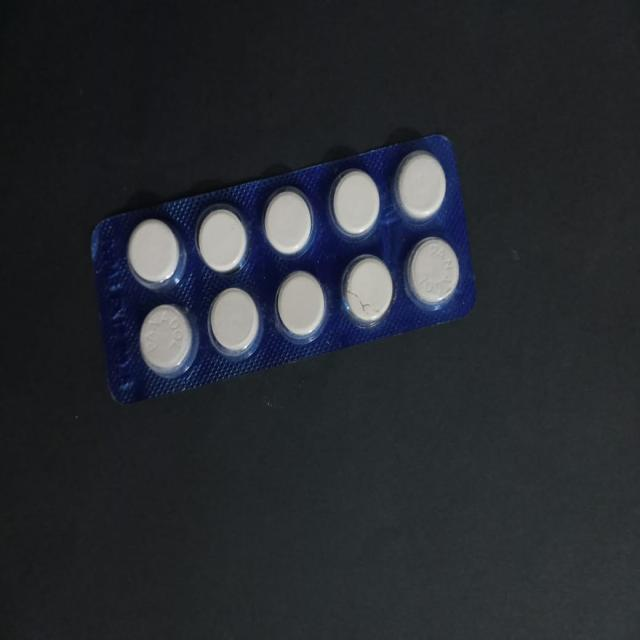defect: (340, 252, 396, 328)
